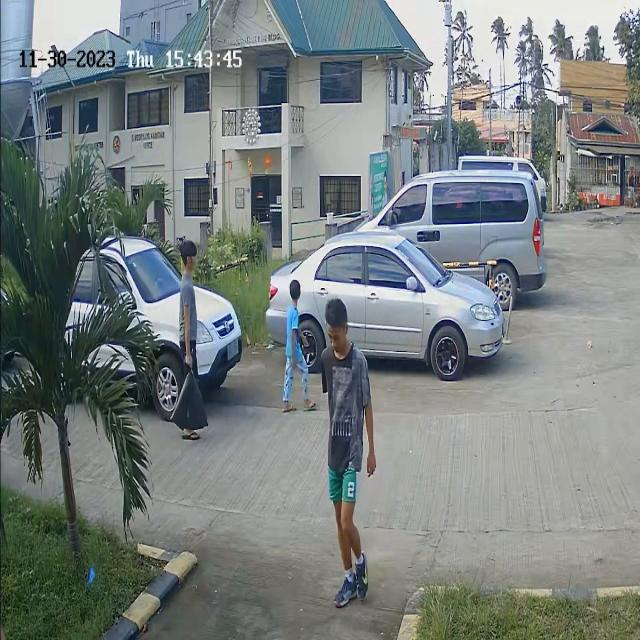garbage: (166, 372, 217, 434)
person: (318, 296, 368, 469), (173, 236, 207, 340), (282, 278, 305, 374)
